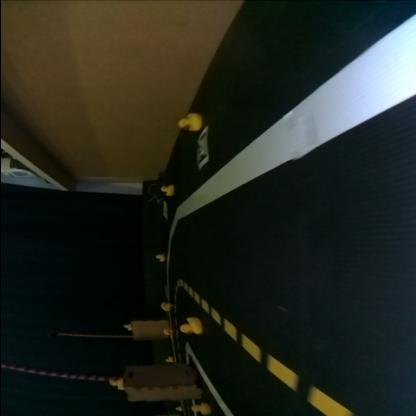Duckie: (176, 114, 201, 132), (178, 320, 200, 336), (189, 403, 210, 415), (108, 379, 122, 391), (160, 186, 172, 196), (160, 303, 170, 312), (154, 256, 164, 262), (121, 325, 130, 331), (173, 406, 181, 412), (162, 329, 169, 335), (164, 357, 171, 363)
QR code: (195, 128, 207, 169)
